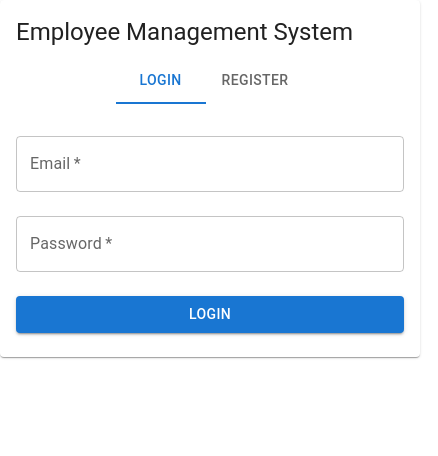
Test case: Login Page › switches to register tab shows name field
The width and height of the screenshot is (438, 456).
Click the tab "Register" at (255, 80), box [206,56,304,104]
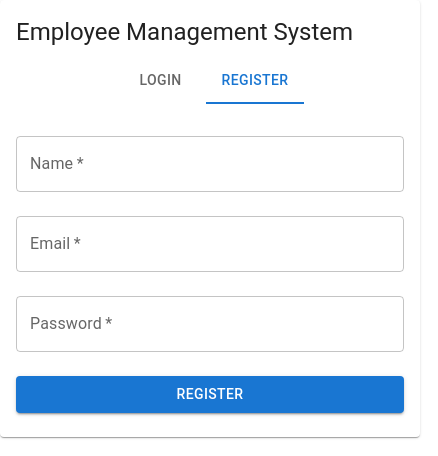
Expected: the field labelled "Name *" is shown, [16,136,404,192]
Expected: the button "Register" is shown, [16,376,404,413]
